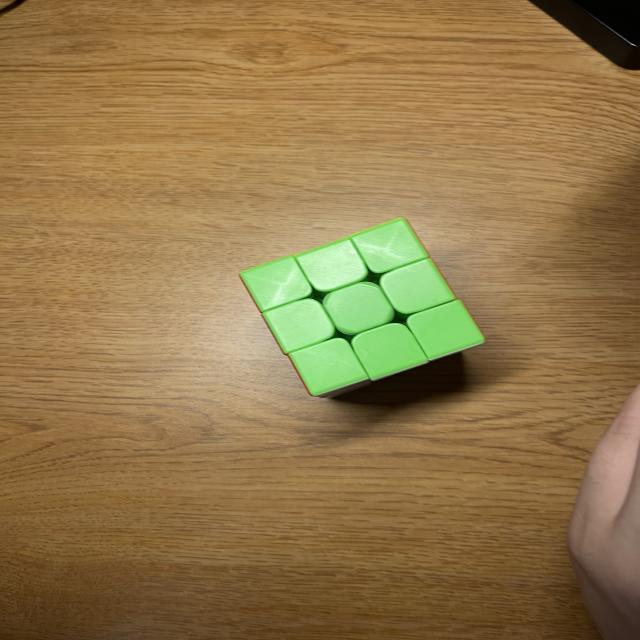Rubiks Cube: (241, 218, 485, 396)
